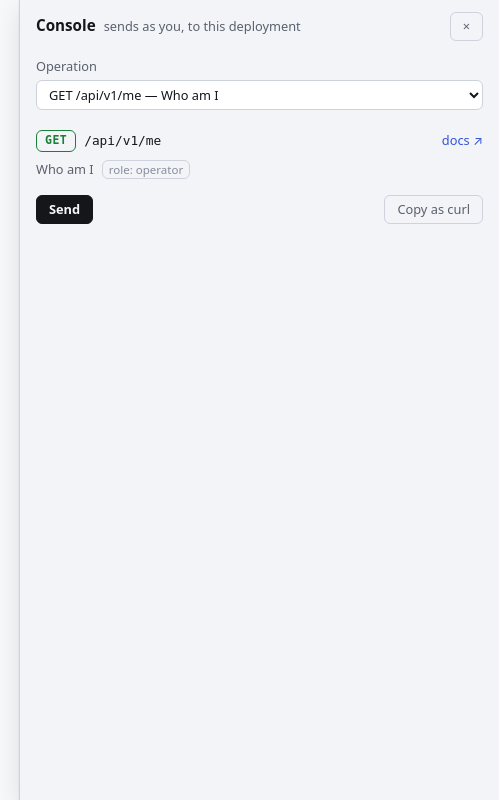
Test: the API console (docs/49 D5, revised 2026-09-21) › carries query parameters that were filled and drops the empty optional ones
The image size is (499, 800).
Select "GET /api/v1/bans — List bans" in the dropdown labelled "Operation" at (260, 95), box [36,80,483,110]
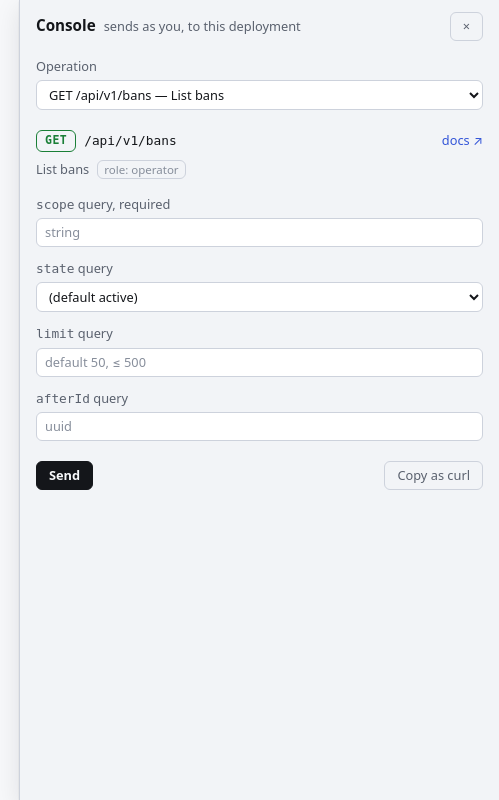
Click the button "Send" at (65, 476), box [36,461,93,490]
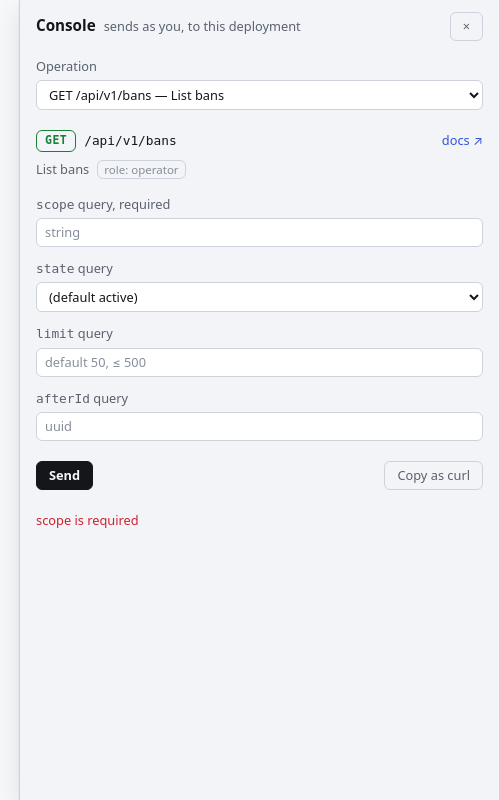
Expected: the text "scope is required" is shown, [36,511,139,529]
Type "x" into the field labelled "scope query, required" at (260, 233), box [36,218,483,247]
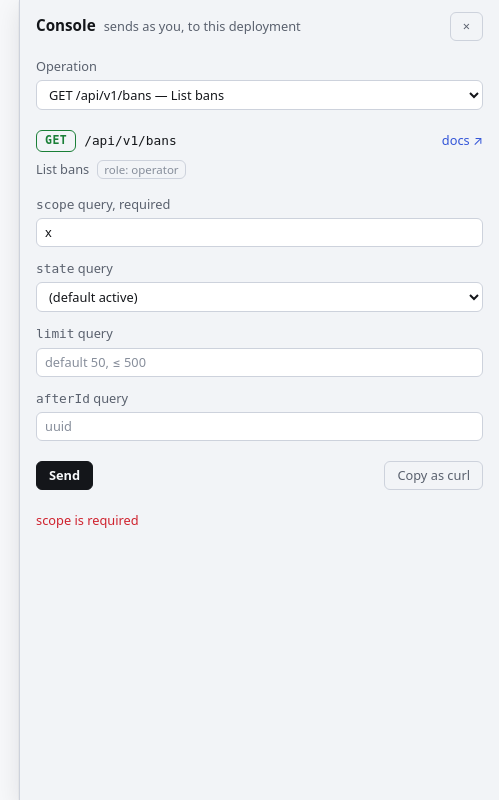
Select "all" in the dropdown labelled "state query" at (260, 298), box [36,282,483,312]
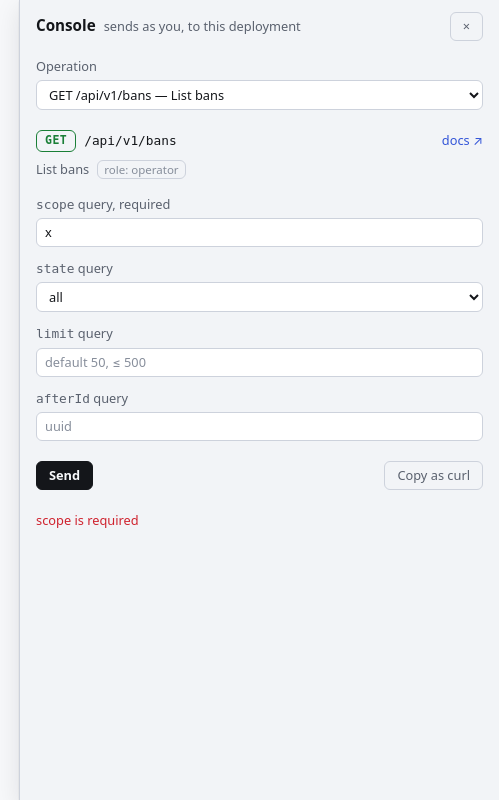
Type "5" into the field labelled "limit query" at (260, 362), box [36,348,483,377]
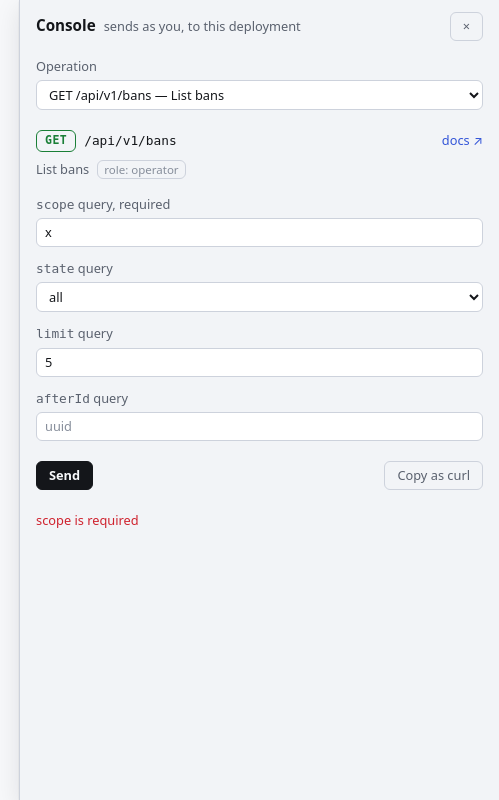
Click the button "Send" at (65, 476), box [36,461,93,490]
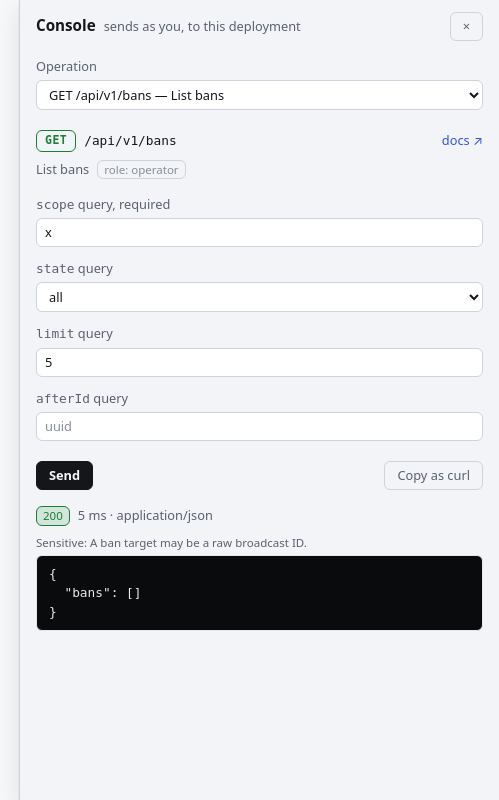
Expected: the text "200" is shown, [36,506,70,526]
Expected: the text "Sensitive: A ban target may be a raw broadcast ID." is shown, [36,535,307,550]
